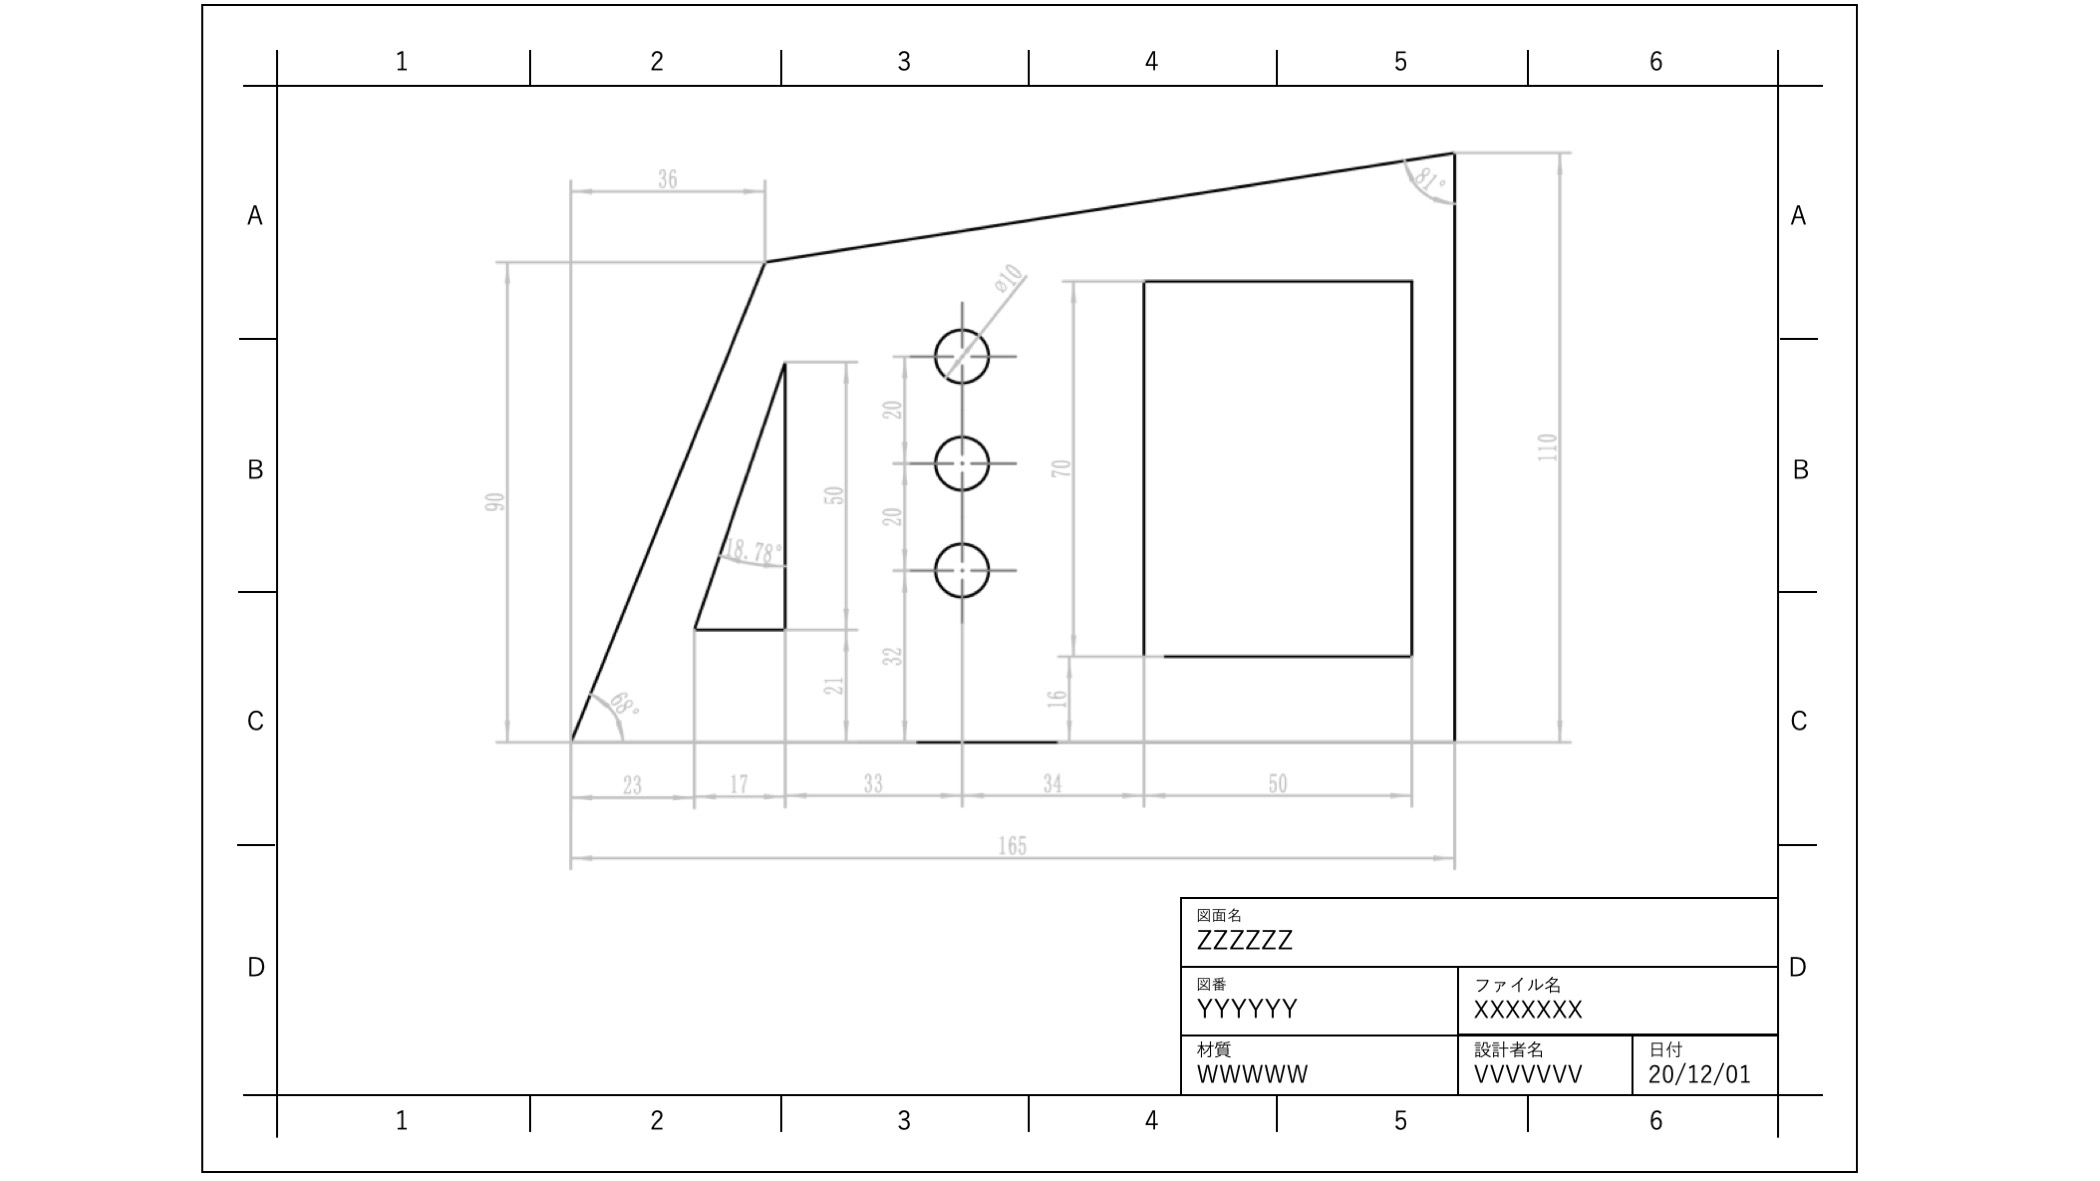circle: (923, 316, 997, 395), (927, 531, 1001, 609), (927, 433, 997, 502)
rectangle: (1129, 265, 1421, 671)
triangle: (687, 353, 798, 643)
